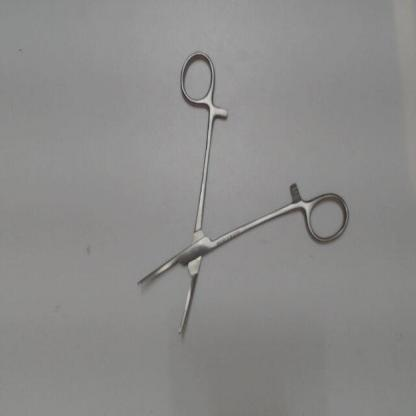Crile Artery Forceps: (129, 43, 353, 345)
